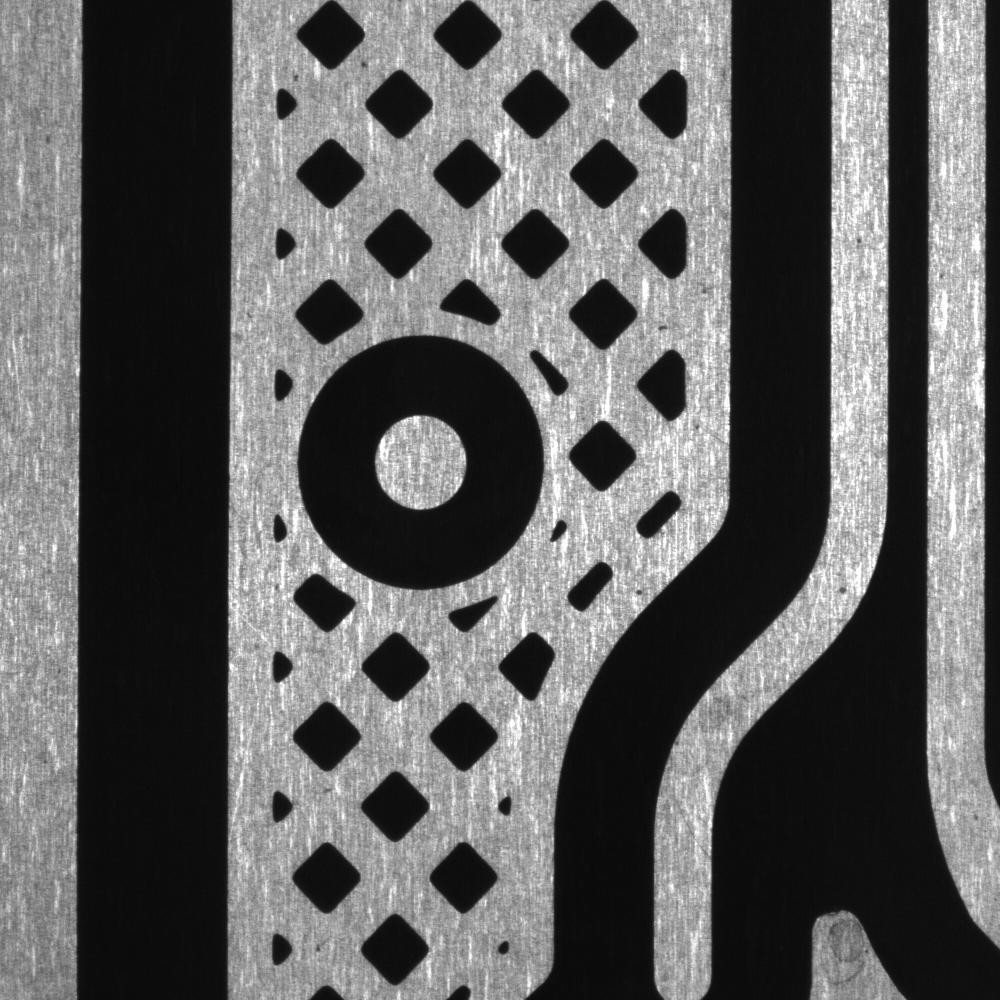Discolor: (817, 912, 877, 989), (688, 688, 756, 732)
Pinhole: (632, 581, 646, 602), (838, 585, 851, 598), (853, 236, 865, 246)
Scar: (832, 442, 866, 543), (671, 790, 715, 866), (797, 584, 825, 659), (701, 417, 730, 452)
